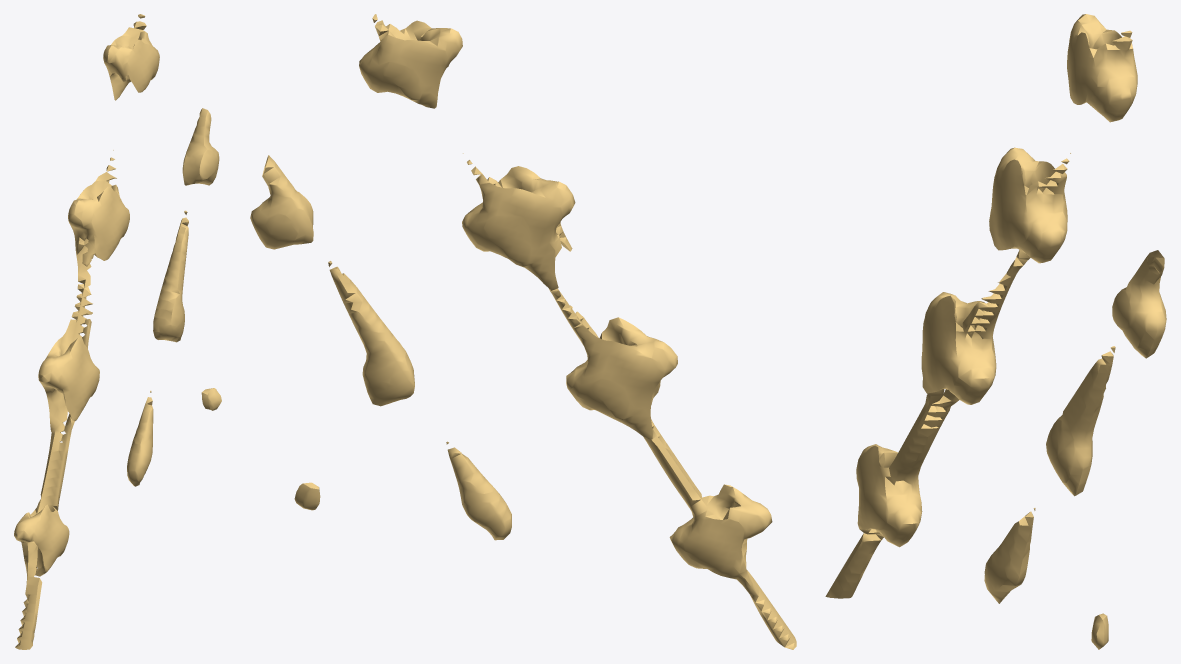
File: detail.mollified.von_mises.p99.glb
The picture shows the model from 3 angles, left to right: view 1: azimuth 30°, elevation 25°; view 2: azimuth 150°, elevation 25°; view 3: azimuth 270°, elevation 25°; orthographic projection. The views are drawn at different scales.
Visible parts, largest first — view 1: detail.mollified.von_mises.p99; view 2: detail.mollified.von_mises.p99; view 3: detail.mollified.von_mises.p99.
Boxes of the visible parts, x1,y1,x2,y2 form: detail.mollified.von_mises.p99: (14,14,221,649); detail.mollified.von_mises.p99: (250,14,796,649); detail.mollified.von_mises.p99: (825,14,1166,649).
Size of the model in its own units: 1.11 by 1.73 by 0.7422.
